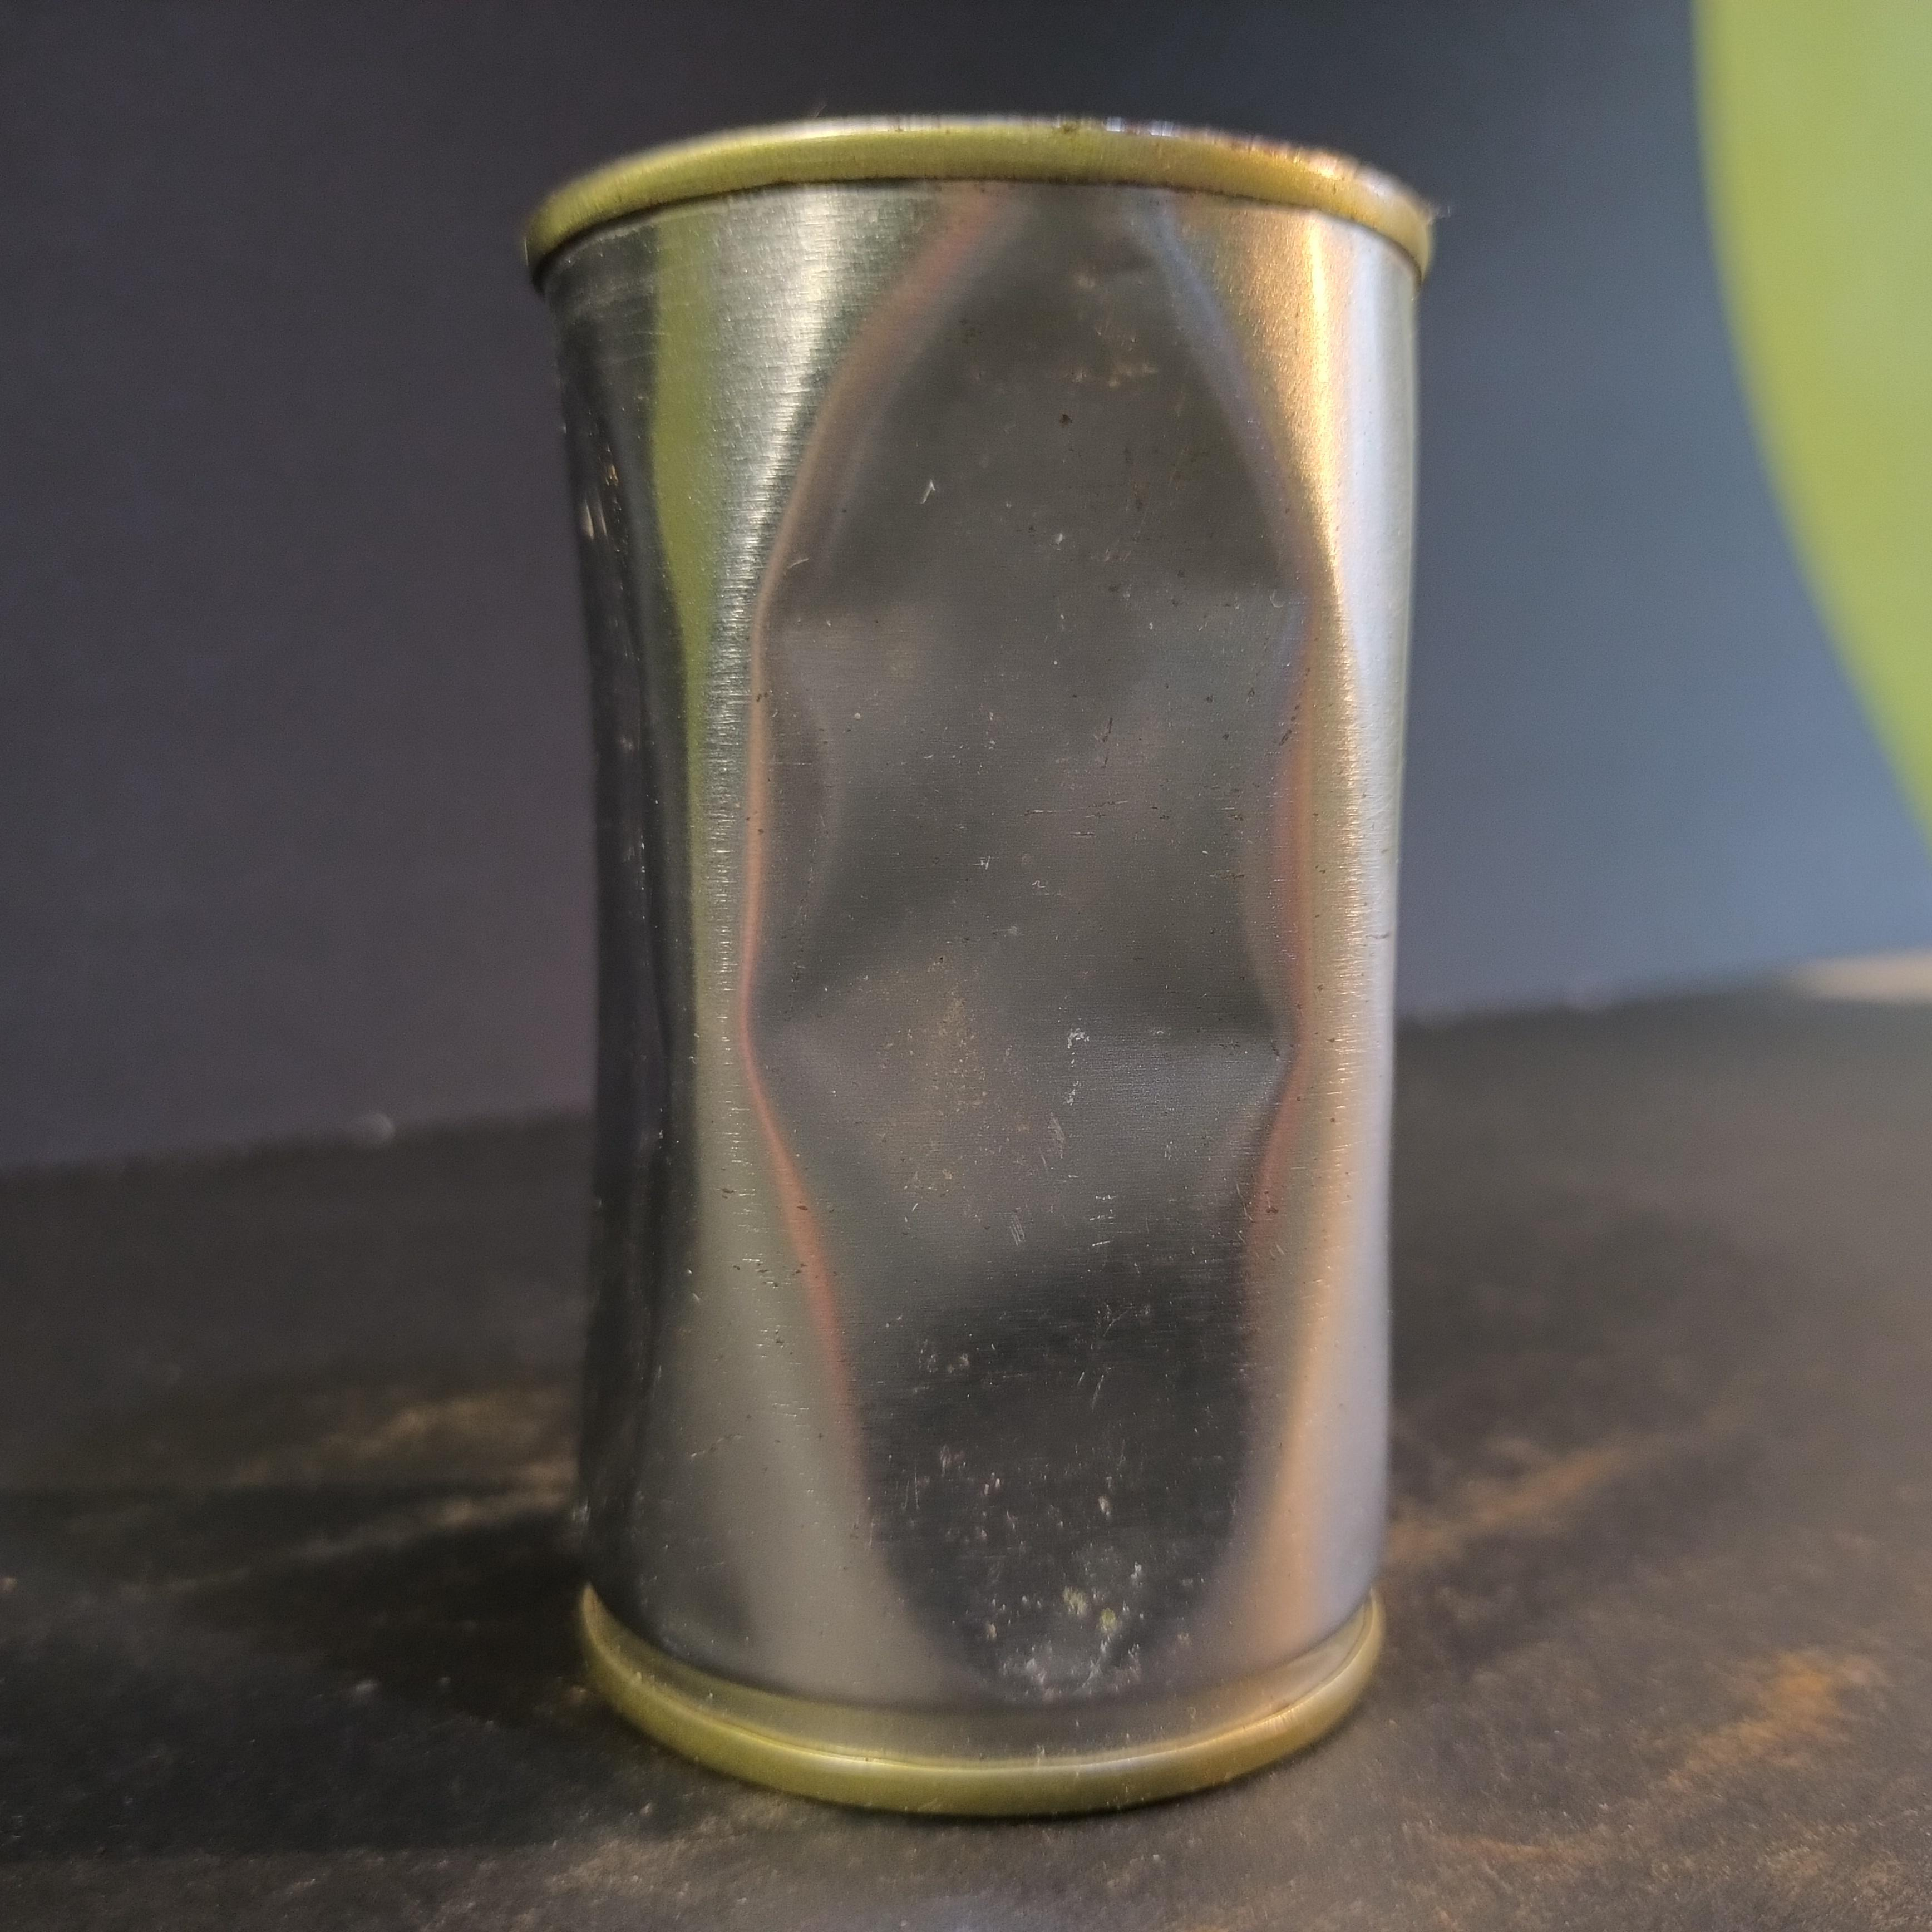Dented: (497, 83, 1453, 1780)
